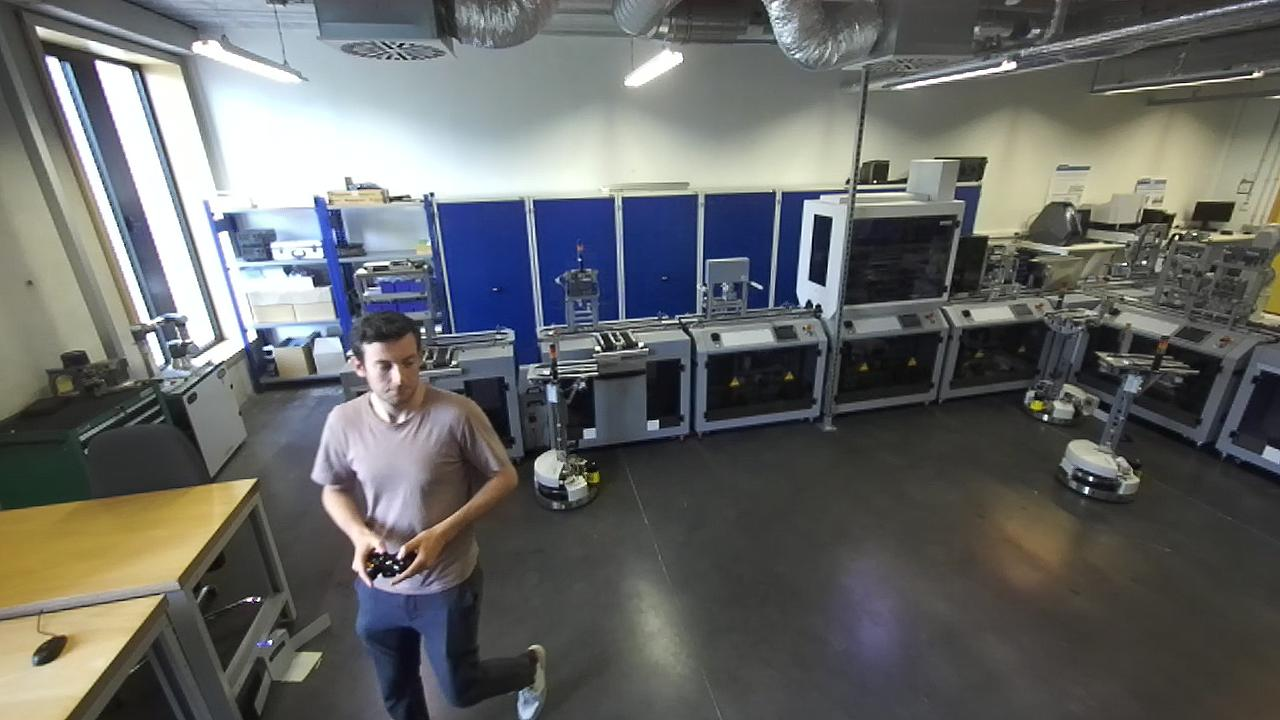AMR: (1060, 317, 1188, 514), (522, 329, 607, 510), (1027, 275, 1115, 426)
Human: (303, 310, 555, 720)
